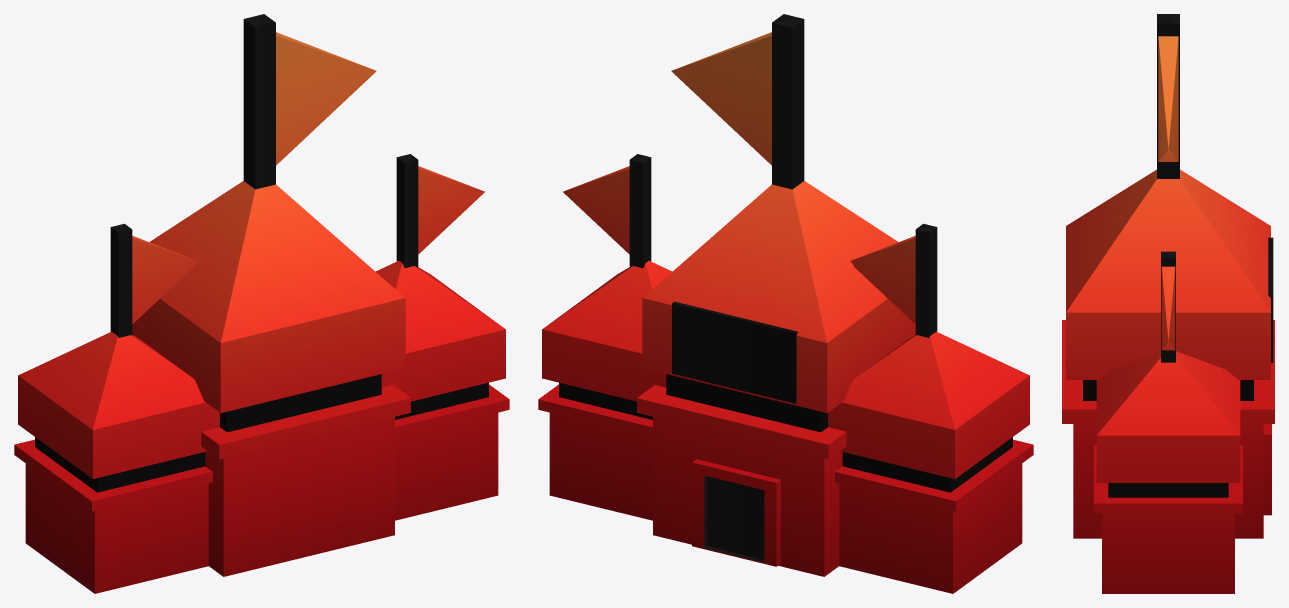
The model's file is castle.fbx.
3 views of the same model, side by side, from view 1: azimuth 30°, elevation 25°; view 2: azimuth 150°, elevation 25°; view 3: azimuth 270°, elevation 25° (orthographic). The views are drawn at different scales.
Parts seen in each view (by area): view 1: red_castle; view 2: red_castle; view 3: red_castle.
Boxes of the visible parts, <box> form: red_castle: <box>14,14,509,593</box>; red_castle: <box>538,14,1033,593</box>; red_castle: <box>1062,14,1274,593</box>.
Size of the model in its own units: 505 by 557 by 224.
